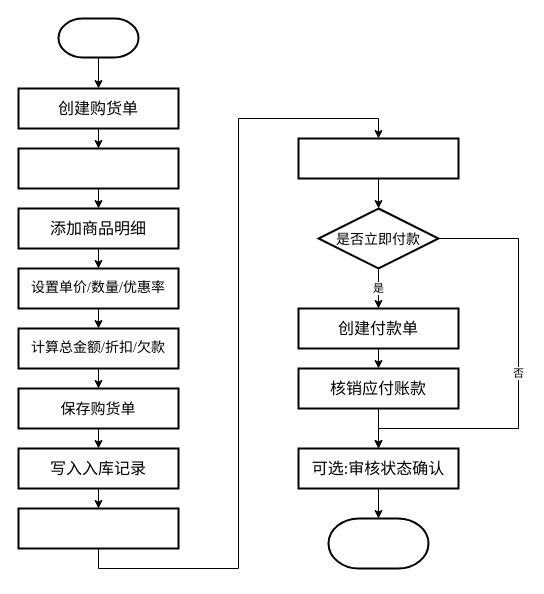
Some shapes in this 544 by 594 pixel diagram are drawn without their labels. Here are the shapes that lost their labels. From the top down, the centre of each, then its label:
At point (98, 37): "开始".
At point (98, 168): "选择供应商".
At point (378, 158): "生成应付账款记录".
At point (98, 528): "更新商品库存".
At point (378, 543): "采购完成".
